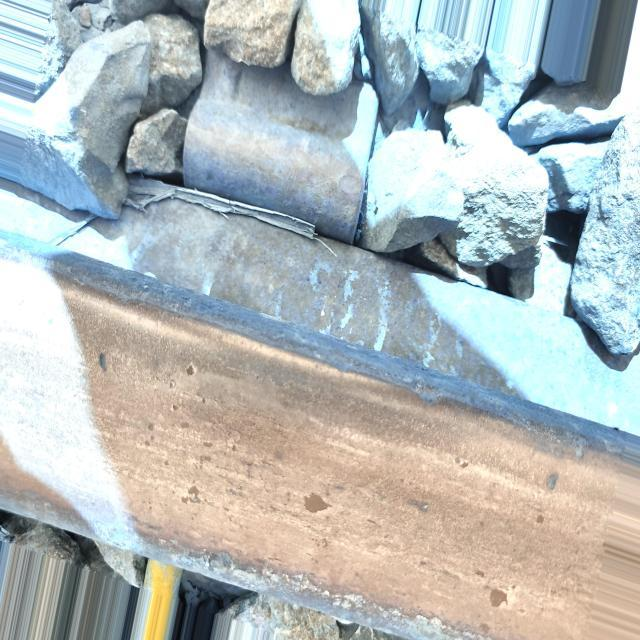Missing Fastener: (169, 24, 384, 261)
